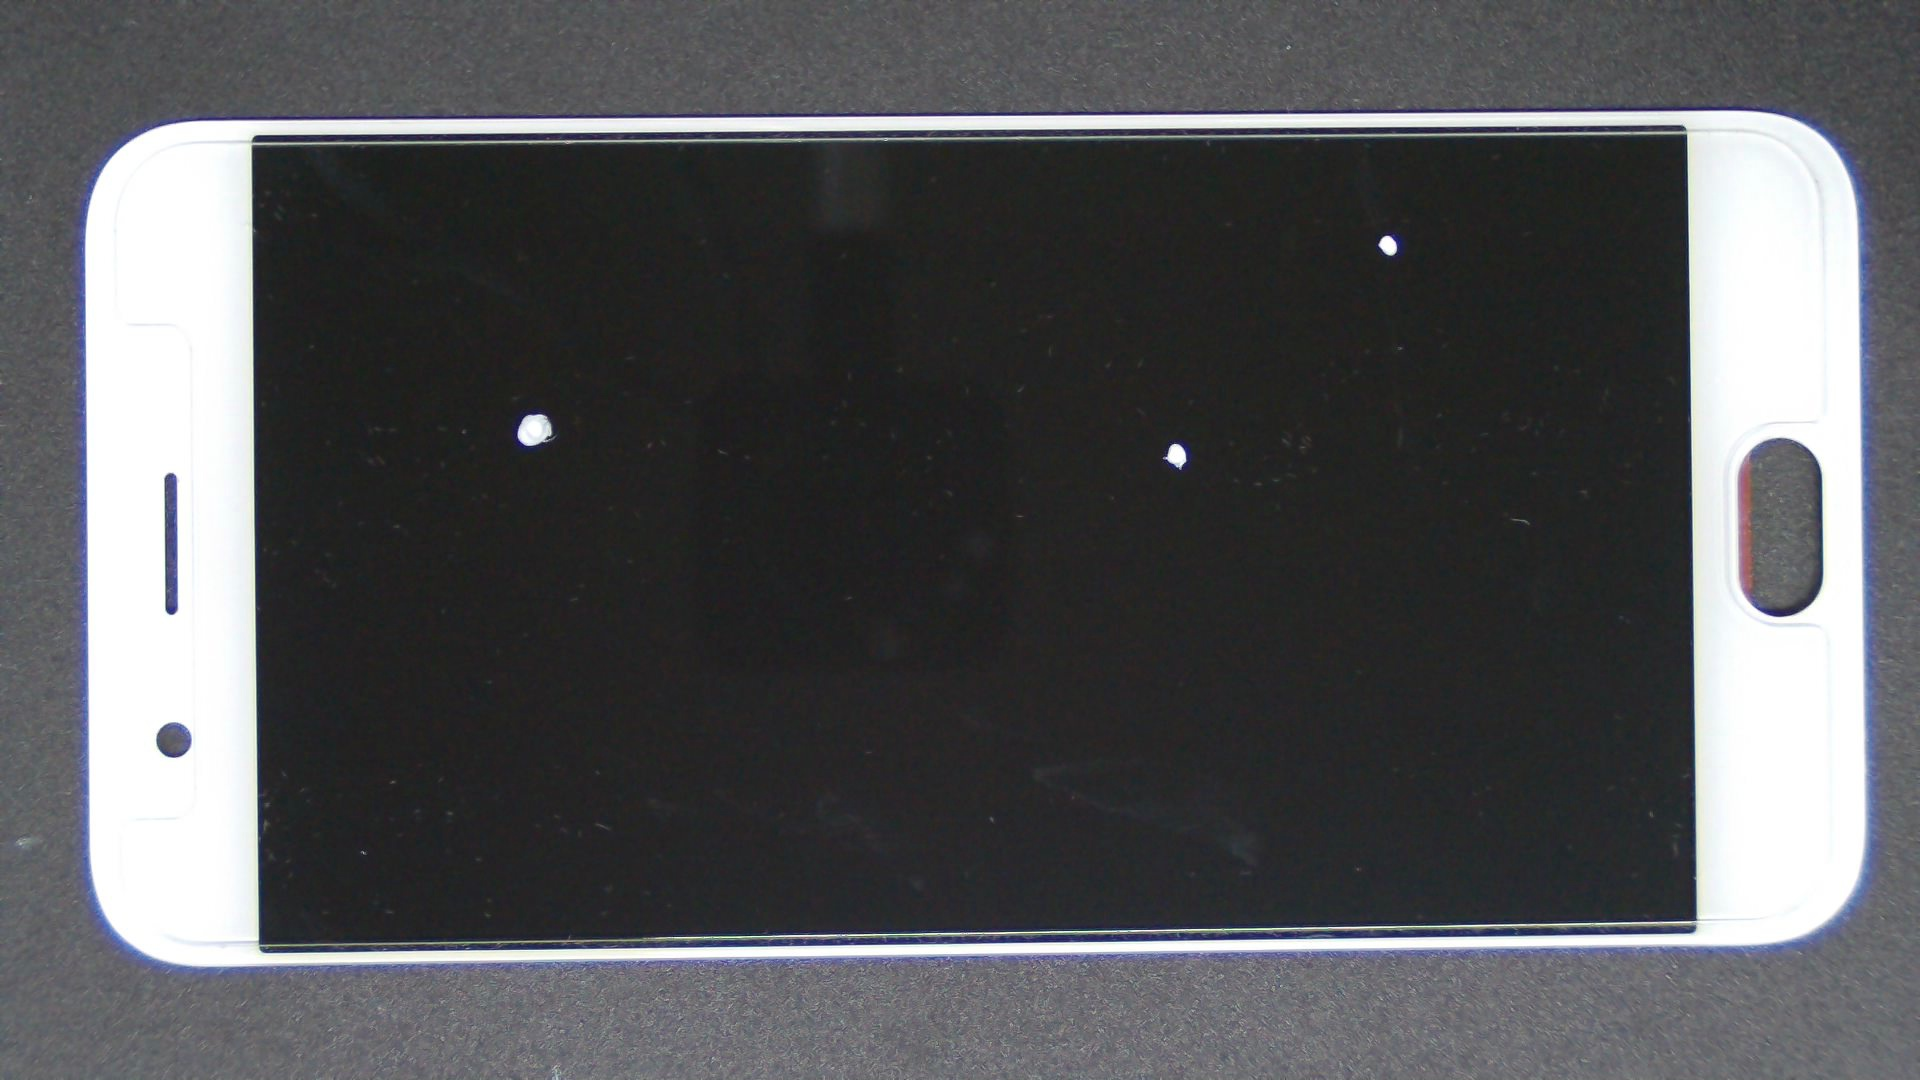oil: (588, 220, 1762, 662), (692, 116, 1920, 352), (265, 206, 794, 618)
